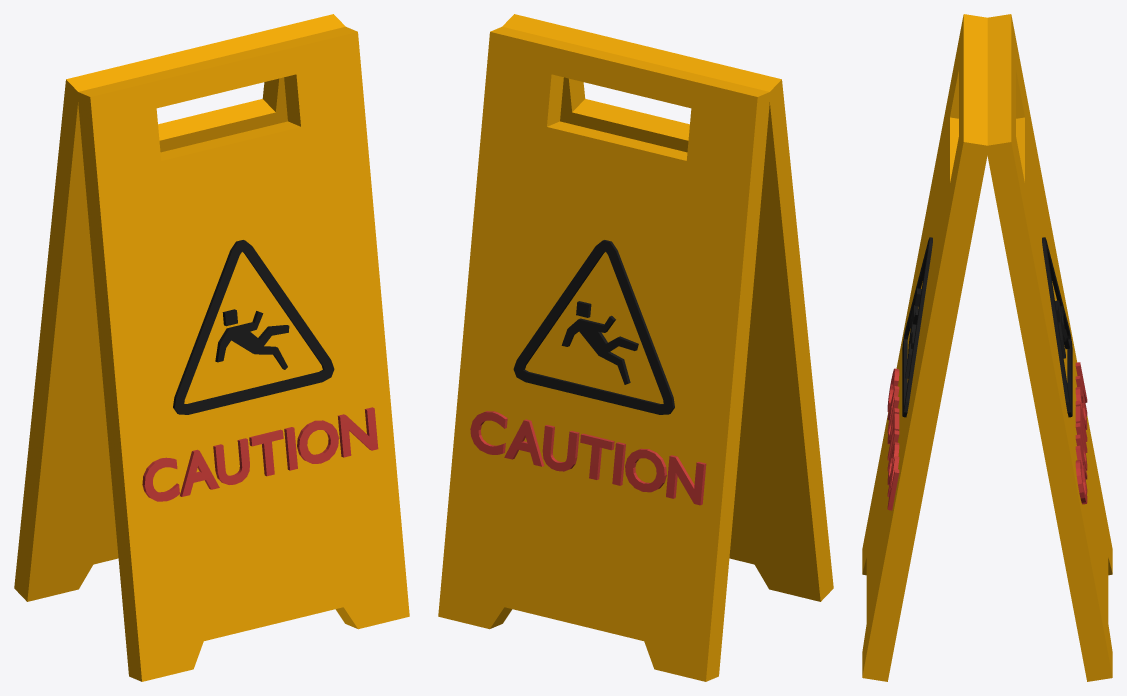
Rendered from SM_Props_Caution_01.fbx.
3 views of the same model, side by side, from view 1: azimuth 30°, elevation 25°; view 2: azimuth 150°, elevation 25°; view 3: azimuth 270°, elevation 25° (orthographic). The views are drawn at different scales.
Parts seen in each view (by area): view 1: SM_Props_Caution_01; view 2: SM_Props_Caution_01; view 3: SM_Props_Caution_01.
Boxes of the visible parts, x1=… form: SM_Props_Caution_01: x1=14, y1=14, x2=409, y2=681; SM_Props_Caution_01: x1=438, y1=14, x2=833, y2=681; SM_Props_Caution_01: x1=862, y1=14, x2=1112, y2=681.
Size of the model in its own units: 0.212 by 0.4171 by 0.1755.
